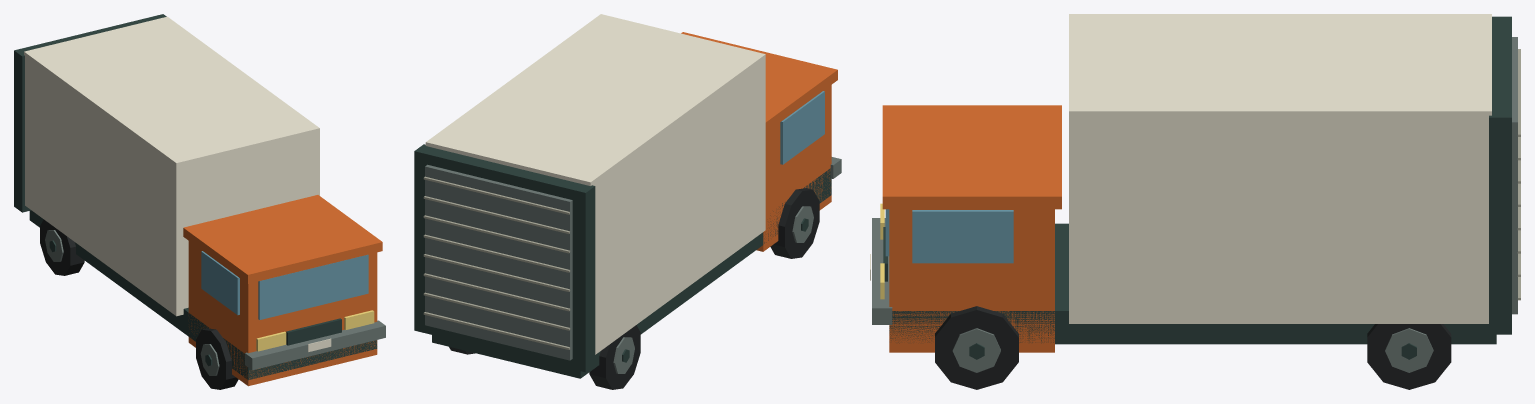
File: BoxTruck.obj
3 views of the same model, side by side, from view 1: azimuth 30°, elevation 25°; view 2: azimuth 150°, elevation 25°; view 3: azimuth 270°, elevation 25° (orthographic). The views are drawn at different scales.
Visible parts, largest first — view 1: BoxTruck; view 2: BoxTruck; view 3: BoxTruck.
Boxes of the visible parts, x1,y1,x2,y2 form: BoxTruck: [14, 14, 385, 389]; BoxTruck: [414, 14, 841, 389]; BoxTruck: [870, 14, 1520, 389].
Bounding box in the file's own units: 2.6 × 3.36 × 7.07.
